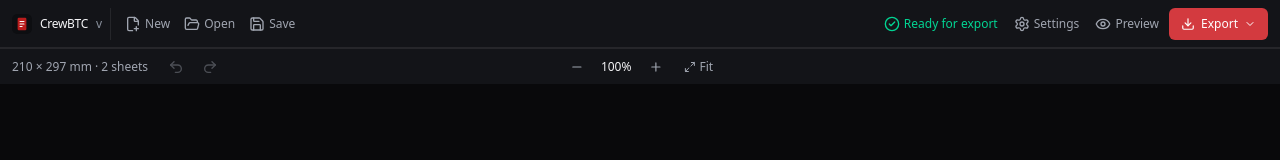
Scenario: the top bar › keeps the second export route in a menu rather than a second button
This screenshot has width=1280, height=160.
Expected: the text "Export" is shown once, [1201,16,1238,32]
Click the button with aria-label "Export PDF".
click(1218, 24)  # box [1169,8,1268,40]
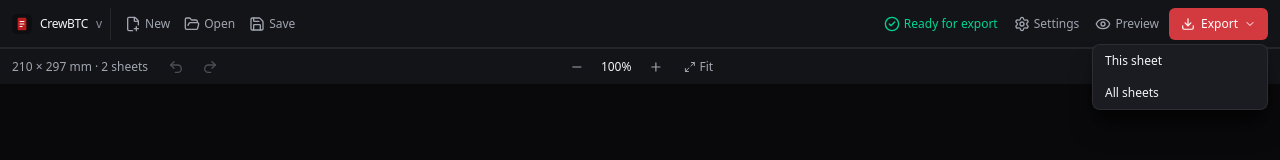
Result: the menu item "This sheet" is shown at [1093,44,1267,76]
Result: the menu item "All sheets" is shown
Click the menu item "All sheets".
click(1180, 92)  # box [1093,76,1267,108]
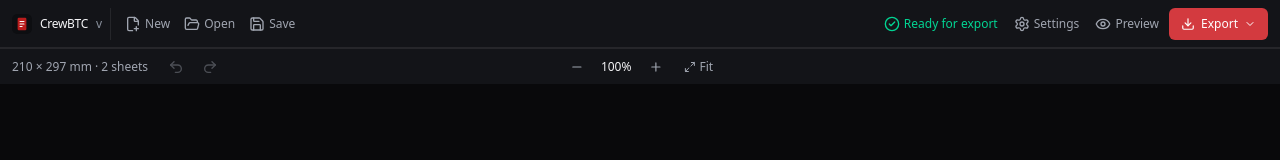
Result: the menu is gone
